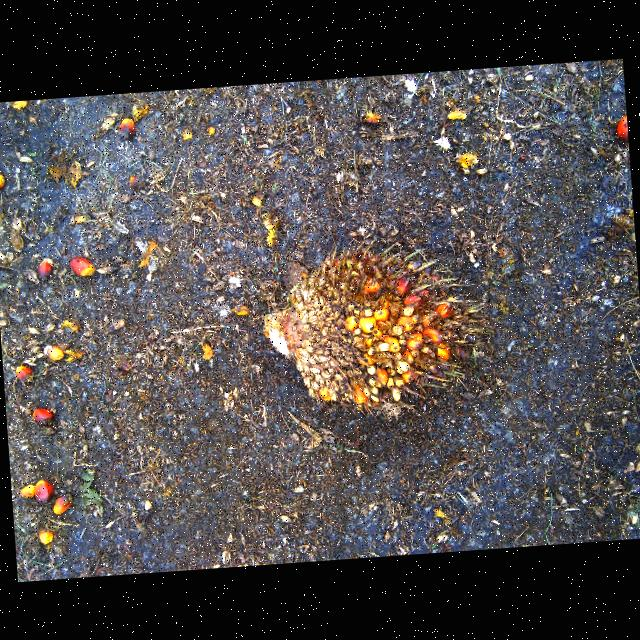Overripe: (261, 241, 484, 415)
